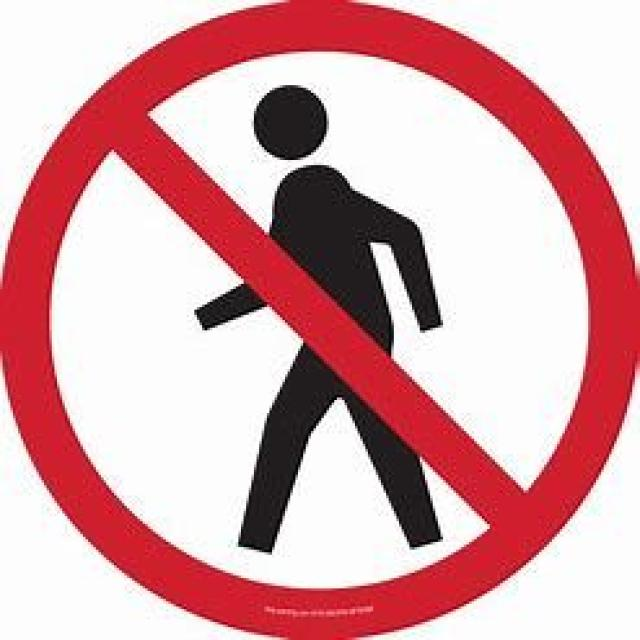Priority road: (0, 0, 637, 637)
